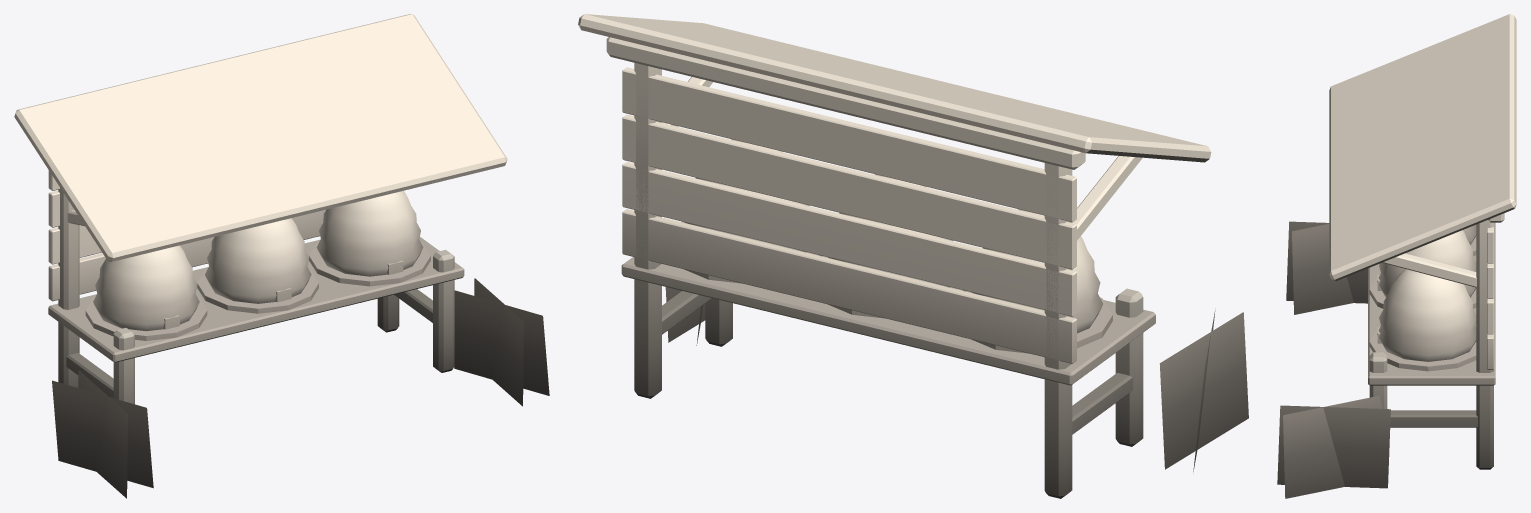
The model's file is SM_VK_Prop_BeeBench.fbx.
3 views of the same model, side by side, from view 1: azimuth 30°, elevation 25°; view 2: azimuth 150°, elevation 25°; view 3: azimuth 270°, elevation 25° (orthographic). The views are drawn at different scales.
Visible parts, largest first — view 1: SM_VK_Prop_BeeBench.001; view 2: SM_VK_Prop_BeeBench.001; view 3: SM_VK_Prop_BeeBench.001.
Boxes of the visible parts, x1=… form: SM_VK_Prop_BeeBench.001: x1=14, y1=14, x2=549, y2=498; SM_VK_Prop_BeeBench.001: x1=578, y1=14, x2=1248, y2=498; SM_VK_Prop_BeeBench.001: x1=1277, y1=14, x2=1516, y2=498.
Bounding box in the file's own units: 2.77 × 1.81 × 1.35.
